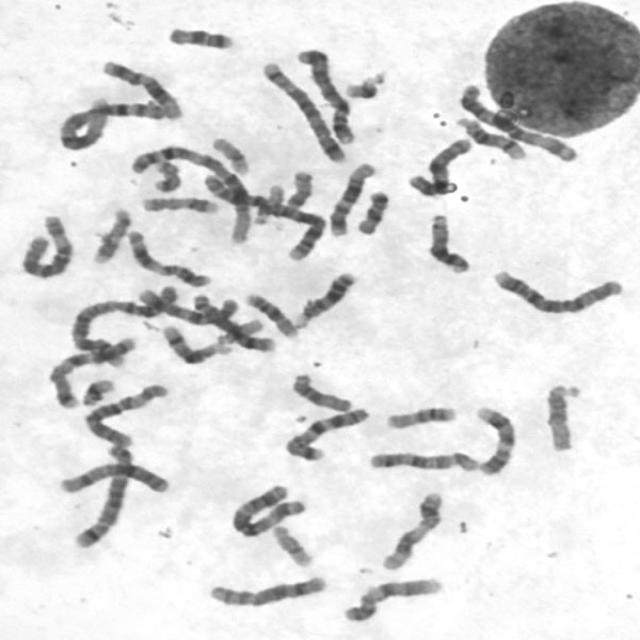A1: (126, 138, 255, 246), (52, 94, 175, 152)
A2: (196, 170, 326, 263), (65, 280, 182, 368)
A3: (452, 78, 582, 163), (225, 478, 310, 538)
B4: (485, 263, 626, 316), (290, 41, 359, 146)
B5: (255, 55, 349, 164), (65, 438, 136, 550)
C10: (129, 282, 242, 326), (362, 444, 482, 474)
C11: (374, 485, 447, 572), (118, 224, 214, 289)
C12: (94, 54, 187, 122), (323, 156, 380, 238)
C6: (78, 377, 172, 448), (13, 208, 77, 280)
C7: (42, 331, 140, 409), (277, 401, 373, 463)
C8: (186, 288, 280, 353), (200, 569, 330, 609)
C9: (337, 572, 445, 624), (467, 399, 520, 477)
D13: (288, 265, 358, 327), (421, 208, 474, 276)
D14: (449, 110, 529, 160), (156, 320, 229, 364)
D15: (538, 378, 584, 453), (285, 367, 356, 414)
E16: (238, 287, 300, 339), (379, 400, 458, 431)
E17: (86, 203, 134, 265), (135, 189, 222, 216)
E18: (160, 20, 236, 51), (350, 185, 391, 236)
F19: (266, 519, 316, 569), (205, 131, 252, 176)
F20: (280, 166, 314, 210), (147, 156, 186, 193)
G21: (338, 68, 386, 101), (75, 373, 117, 408)
G22: (248, 179, 289, 226), (212, 313, 267, 345)
X: (401, 132, 476, 198), (50, 458, 172, 496)
